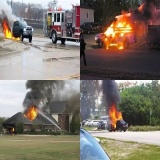fire: (104, 16, 134, 49), (1, 19, 22, 43), (108, 104, 123, 129), (23, 105, 39, 120), (11, 127, 14, 135)
